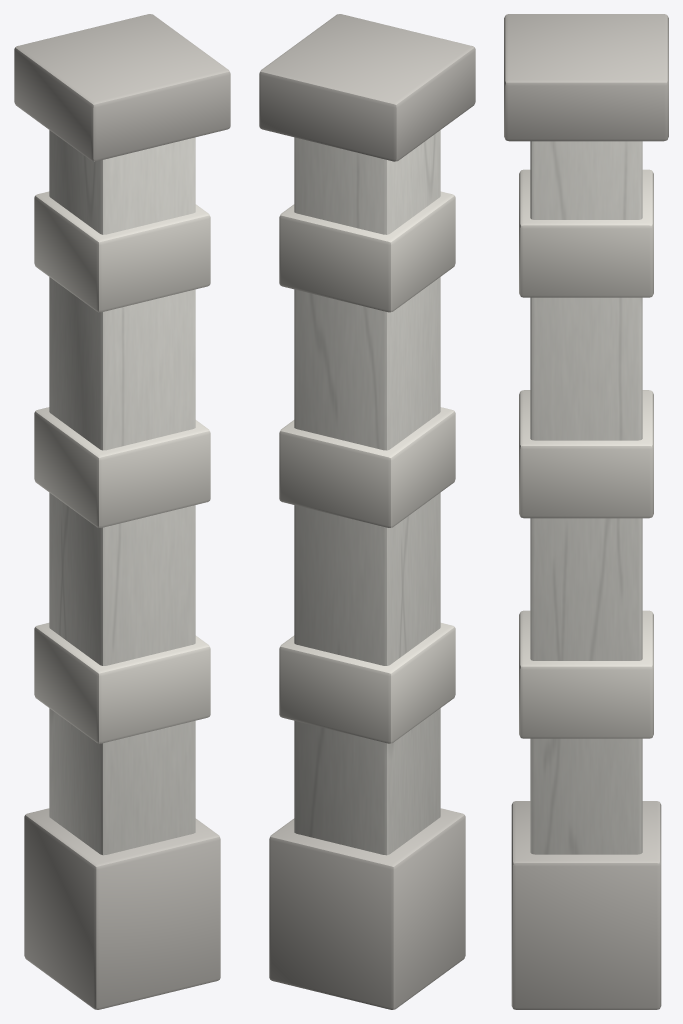
The model's file is th34_ecke.glb.
3 views of the same model, side by side, from view 1: azimuth 30°, elevation 25°; view 2: azimuth 150°, elevation 25°; view 3: azimuth 270°, elevation 25° (orthographic). The views are drawn at different scales.
Visible parts, largest first — view 1: Cube, Cube.001, Cube.002, Cube.005, Cube.003, Cube.004; view 2: Cube, Cube.001, Cube.002, Cube.005, Cube.003, Cube.004; view 3: Cube, Cube.001, Cube.002, Cube.004, Cube.003, Cube.005.
Boxes of the visible parts, left/top/right/bottom form: Cube: left=49, top=130, right=195, bottom=855; Cube.001: left=24, top=808, right=220, bottom=1009; Cube.002: left=14, top=14, right=230, bottom=161; Cube.005: left=34, top=191, right=210, bottom=312; Cube.003: left=34, top=623, right=210, bottom=743; Cube.004: left=34, top=407, right=210, bottom=527; Cube: left=294, top=130, right=440, bottom=855; Cube.001: left=269, top=808, right=465, bottom=1009; Cube.002: left=259, top=14, right=475, bottom=161; Cube.005: left=279, top=191, right=455, bottom=312; Cube.003: left=279, top=623, right=455, bottom=743; Cube.004: left=279, top=407, right=455, bottom=527; Cube: left=530, top=141, right=642, bottom=854; Cube.001: left=511, top=801, right=661, bottom=1009; Cube.002: left=504, top=14, right=668, bottom=141; Cube.004: left=519, top=390, right=653, bottom=518; Cube.003: left=519, top=610, right=653, bottom=738; Cube.005: left=519, top=169, right=653, bottom=297.
Bounding box in the file's own units: 0.44 × 2.75 × 0.44.
Materials: 3 (1 with a texture image).
